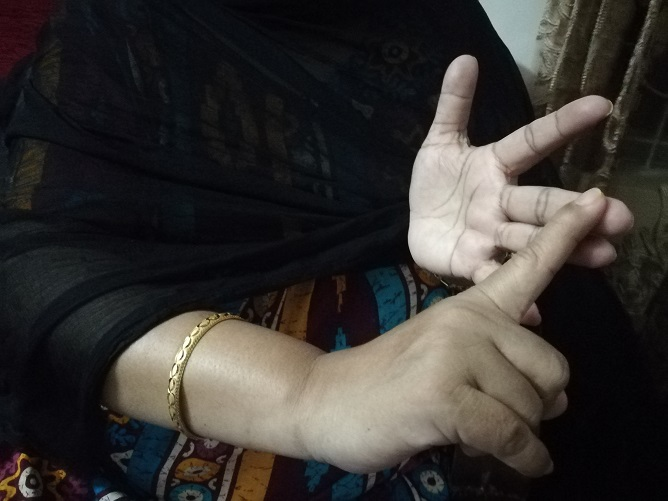u: (428, 52, 632, 478)
